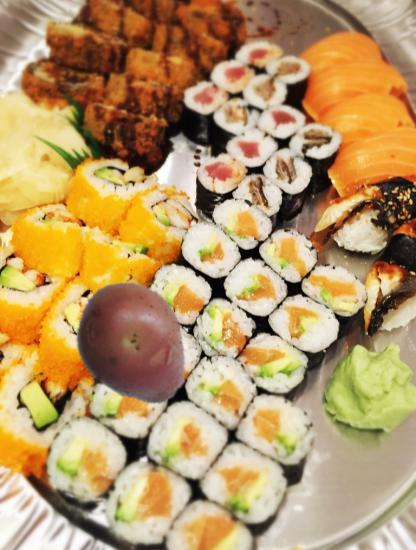Potato: (70, 277, 200, 407)
